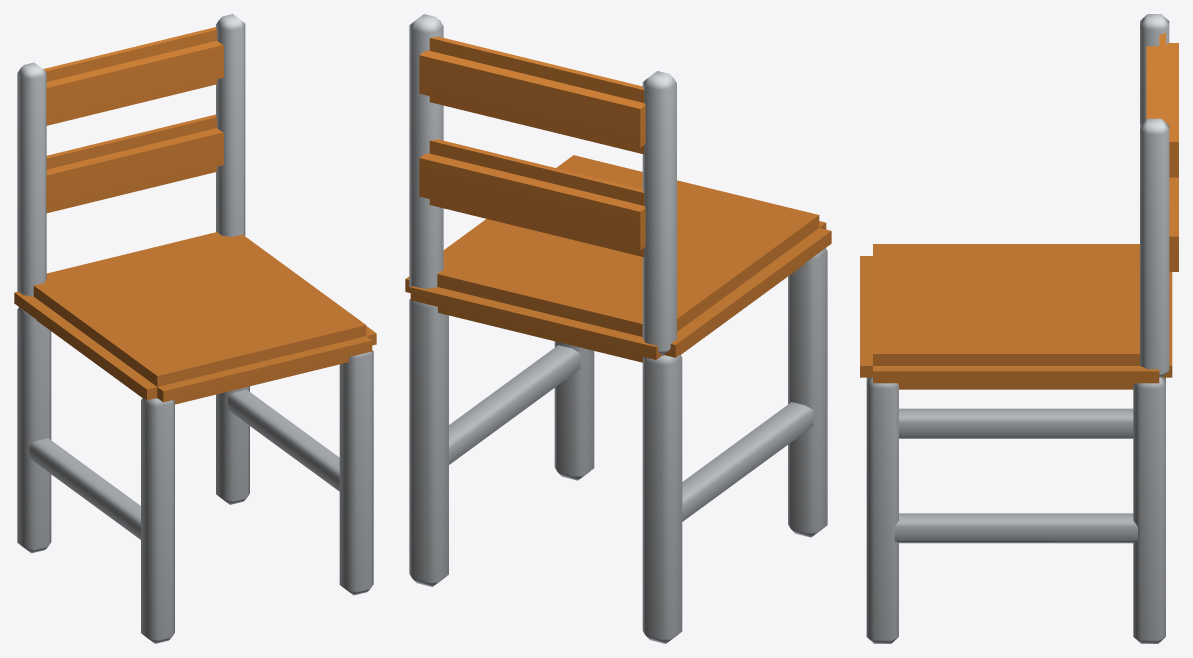
The model's file is Chair_Metal_Cafe_01.glb.
The picture shows the model from 3 angles, left to right: view 1: azimuth 30°, elevation 25°; view 2: azimuth 150°, elevation 25°; view 3: azimuth 270°, elevation 25°; orthographic projection. The views are drawn at different scales.
Parts seen in each view (by area): view 1: SM_Chair_Metal_Cafe_01; view 2: SM_Chair_Metal_Cafe_01; view 3: SM_Chair_Metal_Cafe_01.
Boxes of the visible parts, x1,y1,x2,y2 form: SM_Chair_Metal_Cafe_01: (14,14,376,643); SM_Chair_Metal_Cafe_01: (405,14,831,643); SM_Chair_Metal_Cafe_01: (860,14,1178,643).
Bounding box in the file's own units: 0.44 × 0.88 × 0.49.
1 material, 1 textured.
